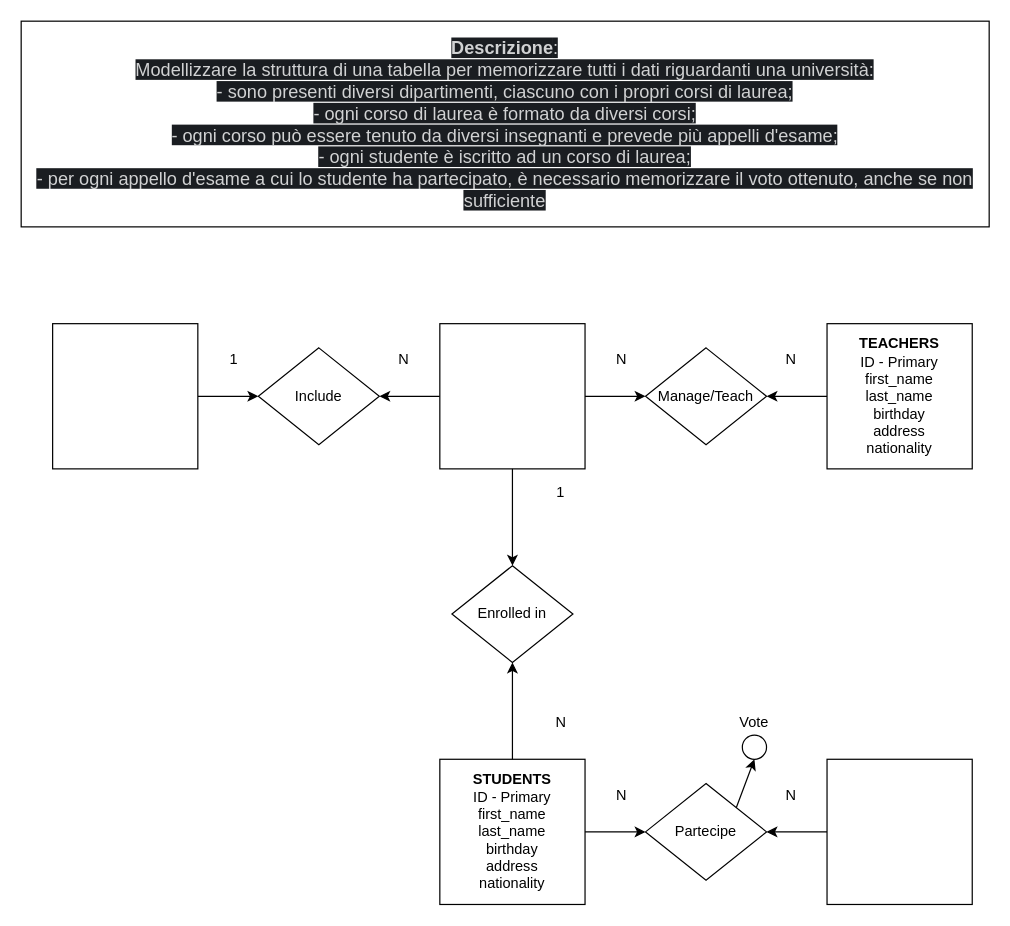
The diagram is 1010 pixels wide and 926 high, and some of its shapes have lost their labels. Here are the shapes that lost their labels. From the top down, the centre of each, then its label:
point (124, 395): DEPARTMENTS ID - Primary name address
point (512, 395): DEGREE COURSES ID - Primary name students_number
point (899, 831): EXAMS ID - Primary name
